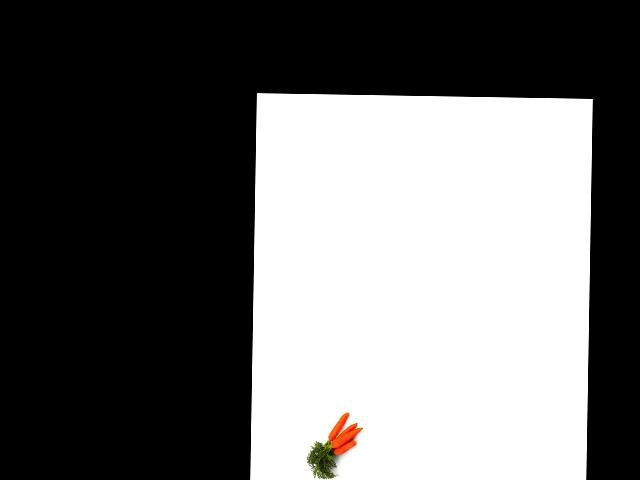carrot: (333, 443, 356, 456)
